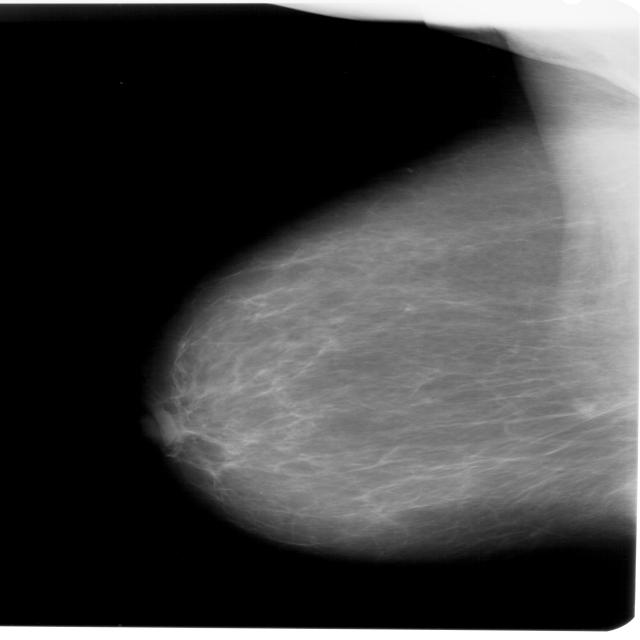normal: (126, 0, 640, 579)
